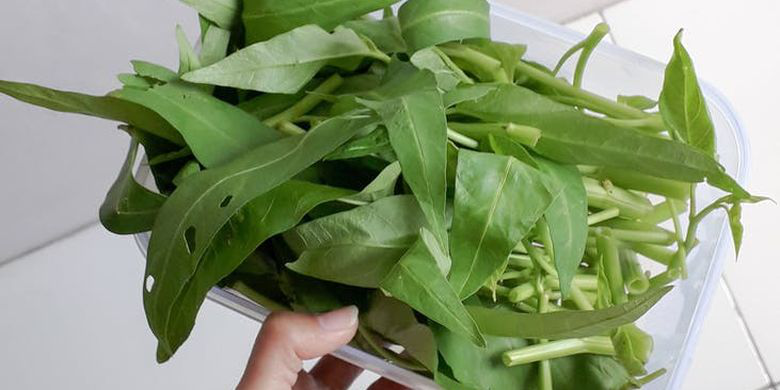Kangkung: (124, 8, 721, 348)
